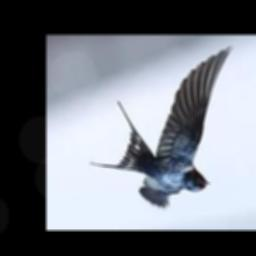Swallow: (90, 44, 234, 209)
